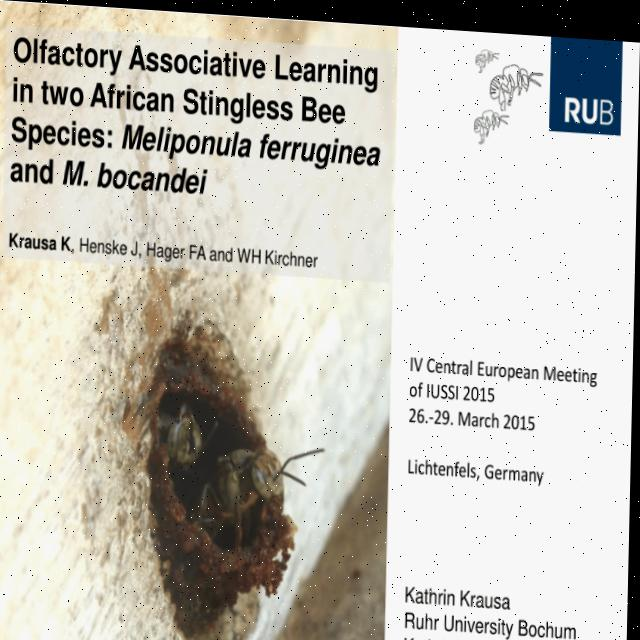Meliponula: (180, 424, 333, 588)
